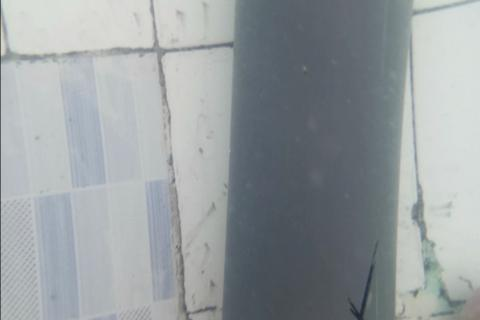keretakan: (345, 240, 380, 320)
